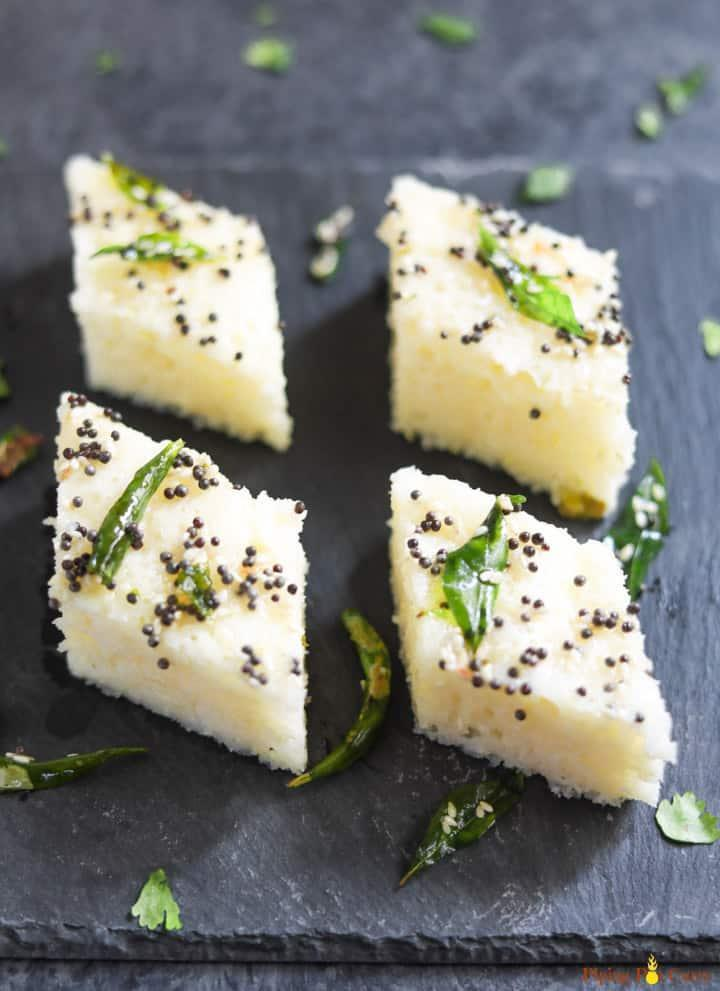dhokla: (388, 151, 685, 835), (57, 149, 328, 802)
